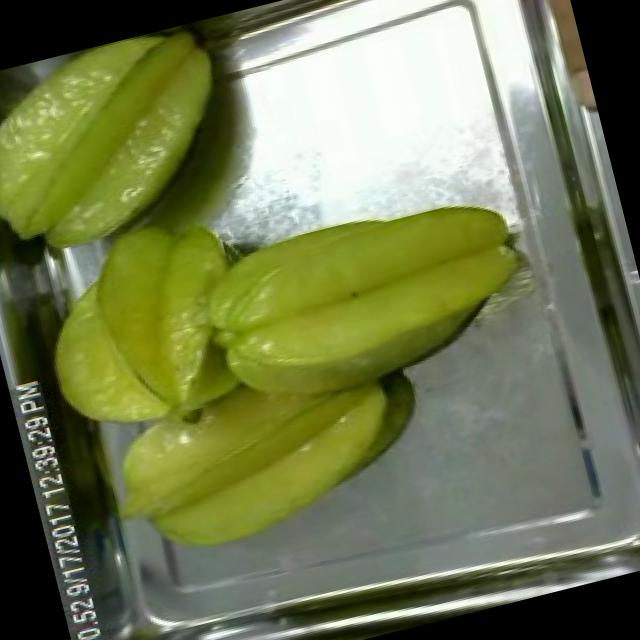fruit: (177, 165, 557, 442), (84, 337, 430, 580), (14, 190, 278, 460), (0, 18, 259, 288)
